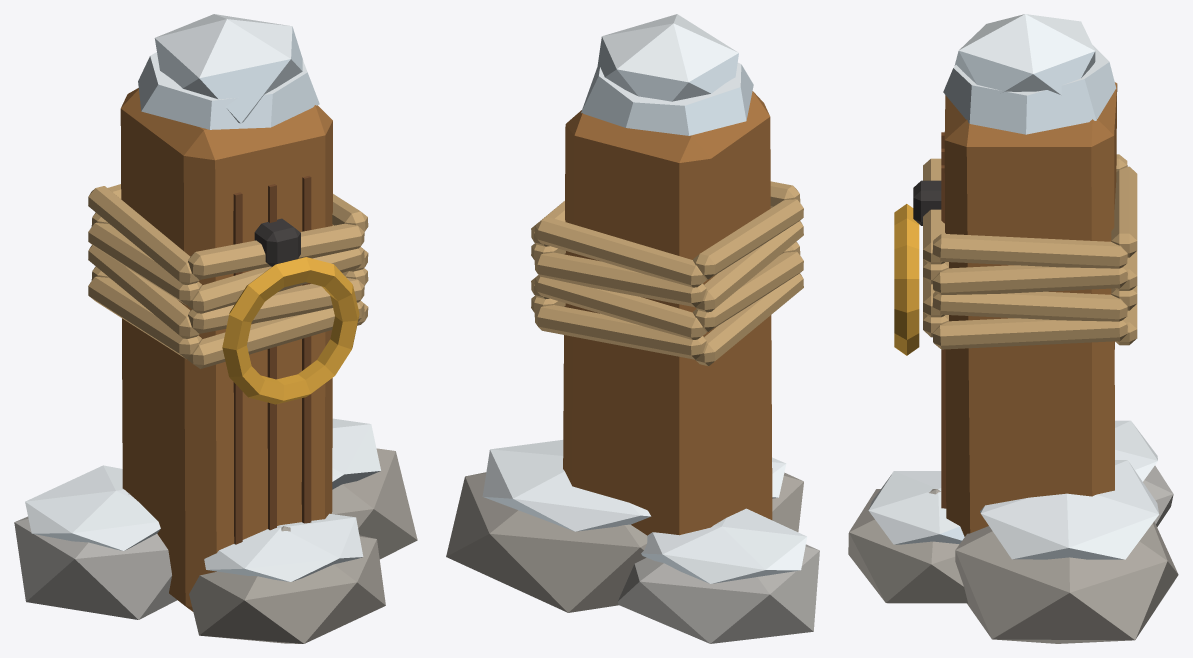
File: mooring_post.glb
The picture shows the model from 3 angles, left to right: view 1: azimuth 30°, elevation 25°; view 2: azimuth 150°, elevation 25°; view 3: azimuth 270°, elevation 25°; orthographic projection. The views are drawn at different scales.
Parts seen in each view (by area): view 1: mooring_post; view 2: mooring_post; view 3: mooring_post.
Part boxes in pixels (x1=…): mooring_post: x1=14, y1=14, x2=417, y2=643; mooring_post: x1=446, y1=14, x2=819, y2=643; mooring_post: x1=848, y1=14, x2=1178, y2=643.
Size of the model in its own units: 0.6363 by 1.01 by 0.5086.
